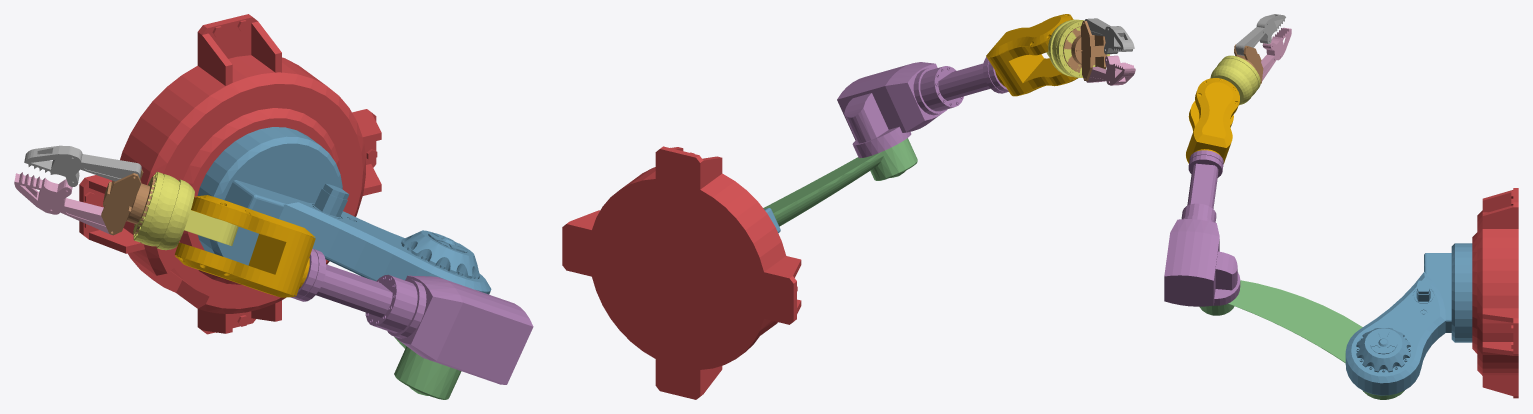
The picture shows the model from 3 angles, left to right: view 1: azimuth 30°, elevation 25°; view 2: azimuth 150°, elevation 25°; view 3: azimuth 270°, elevation 25°; orthographic projection. The views are drawn at different scales.
Parts seen in each view (by area): view 1: g0, g1, g3, g4, g5, g8, g7, g6, g2; view 2: g0, g3, g4, g2, g6, g5, g8, g7; view 3: g1, g0, g3, g2, g4, g5, g8, g7, g6.
Boxes of the visible parts, x1=… form: g0: x1=79, y1=14, x2=381, y2=334; g1: x1=197, y1=127, x2=491, y2=294; g3: x1=291, y1=248, x2=533, y2=384; g4: x1=175, y1=195, x2=315, y2=297; g5: x1=133, y1=171, x2=238, y2=250; g8: x1=24, y1=145, x2=141, y2=186; g7: x1=14, y1=172, x2=112, y2=234; g6: x1=101, y1=169, x2=155, y2=235; g2: x1=394, y1=337, x2=461, y2=399; g0: x1=562, y1=146, x2=801, y2=399; g3: x1=837, y1=57, x2=1008, y2=157; g4: x1=986, y1=14, x2=1077, y2=96; g2: x1=763, y1=138, x2=917, y2=226; g6: x1=1063, y1=21, x2=1107, y2=80; g5: x1=1046, y1=19, x2=1109, y2=77; g8: x1=1084, y1=18, x2=1134, y2=54; g7: x1=1086, y1=55, x2=1135, y2=85; g1: x1=1345, y1=243, x2=1472, y2=395; g0: x1=1472, y1=188, x2=1518, y2=398; g3: x1=1164, y1=150, x2=1240, y2=306; g2: x1=1199, y1=280, x2=1404, y2=399; g4: x1=1186, y1=78, x2=1239, y2=163; g5: x1=1210, y1=55, x2=1260, y2=105; g8: x1=1235, y1=14, x2=1285, y2=55; g7: x1=1261, y1=27, x2=1291, y2=81; g6: x1=1234, y1=44, x2=1263, y2=83.
Bounding box in the file's own units: 1.9 × 1.36 × 1.67.
